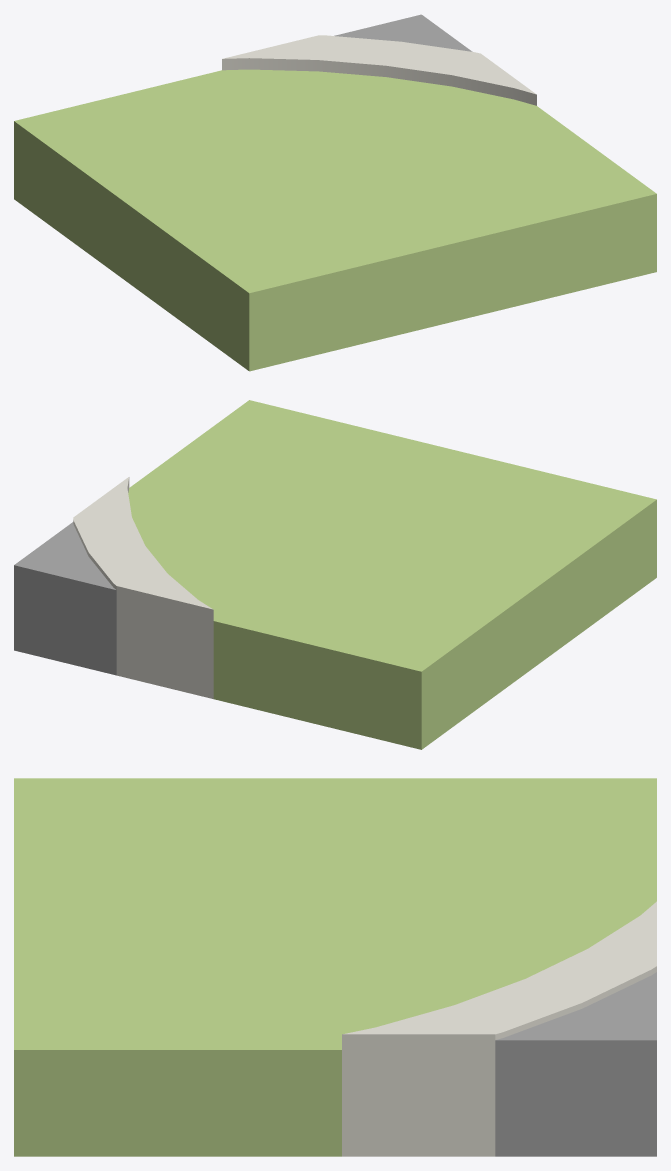
Rendered from tile105.glb.
The picture shows the model from 3 angles, top to bottom: view 1: azimuth 30°, elevation 25°; view 2: azimuth 150°, elevation 25°; view 3: azimuth 270°, elevation 25°; orthographic projection. The views are drawn at different scales.
Parts seen in each view (by area): view 1: tile105; view 2: tile105; view 3: tile105.
Part boxes in pixels (x1,y1,x2,y2): tile105: (14, 14, 656, 371); tile105: (14, 400, 656, 749); tile105: (14, 778, 656, 1156).
Size of the model in its own units: 1 by 0.21 by 1.
